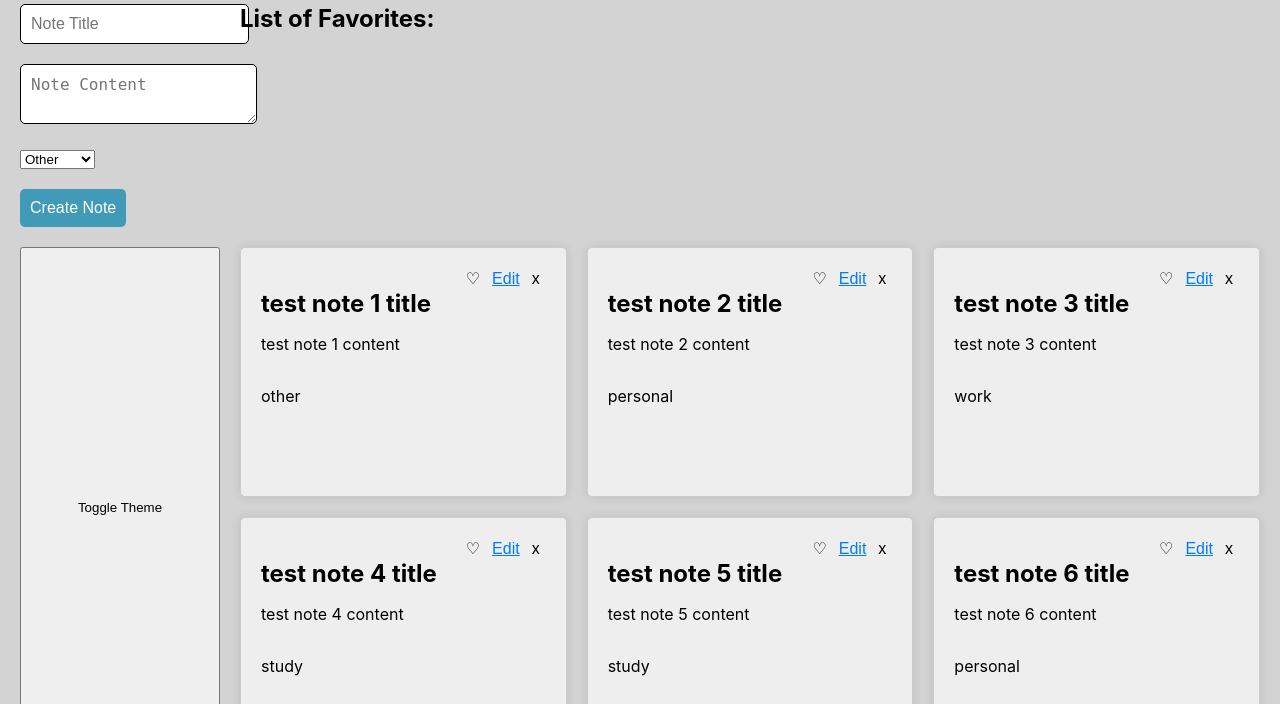
it: Read StickyNote › displays all notes created
Type "First Note" into the field with placeholder "Note Title".
click(134, 24); type("First Note")  # box [20,4,249,44]
Type "First Content" into the text box with placeholder "Note Content".
click(138, 94); type("First Content")  # box [20,64,257,124]
Select "Work" in the dropdown at (58, 160), box [20,150,95,169]
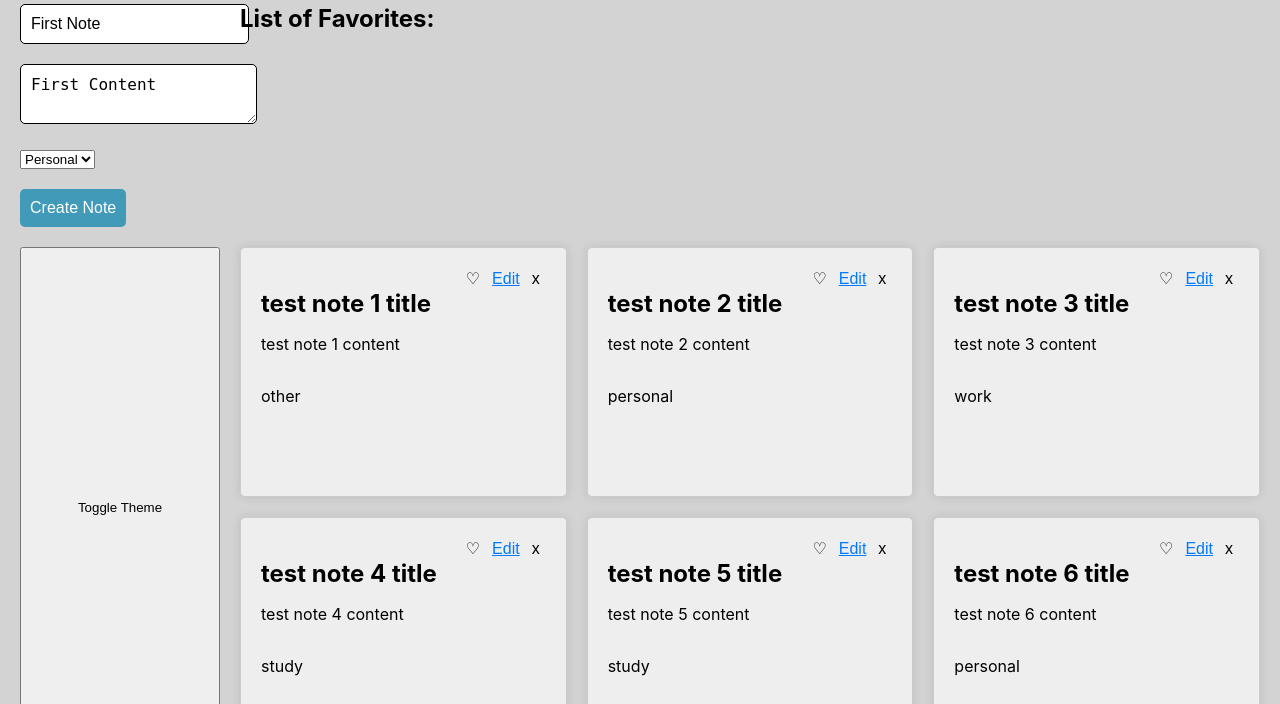
Click the button "Create Note".
click(73, 208)  # box [20,189,126,227]
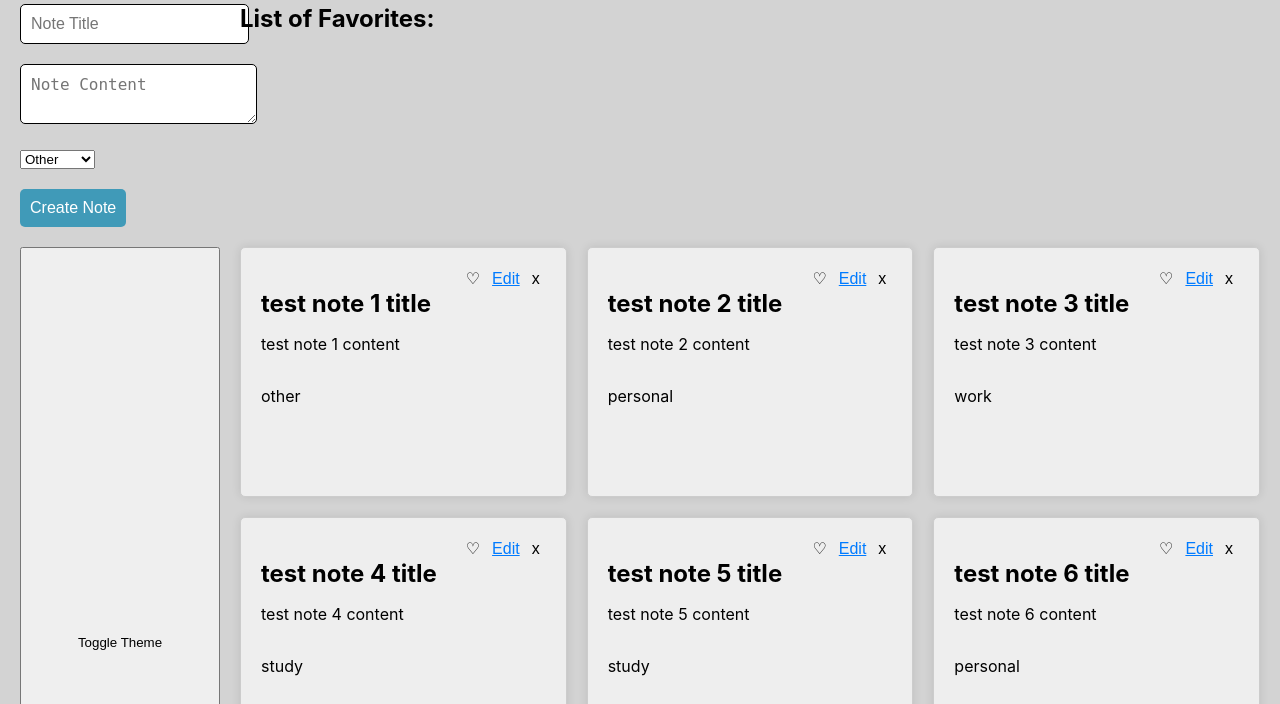
Type "Second Note" into the field with placeholder "Note Title".
click(134, 24); type("Second Note")  # box [20,4,249,44]
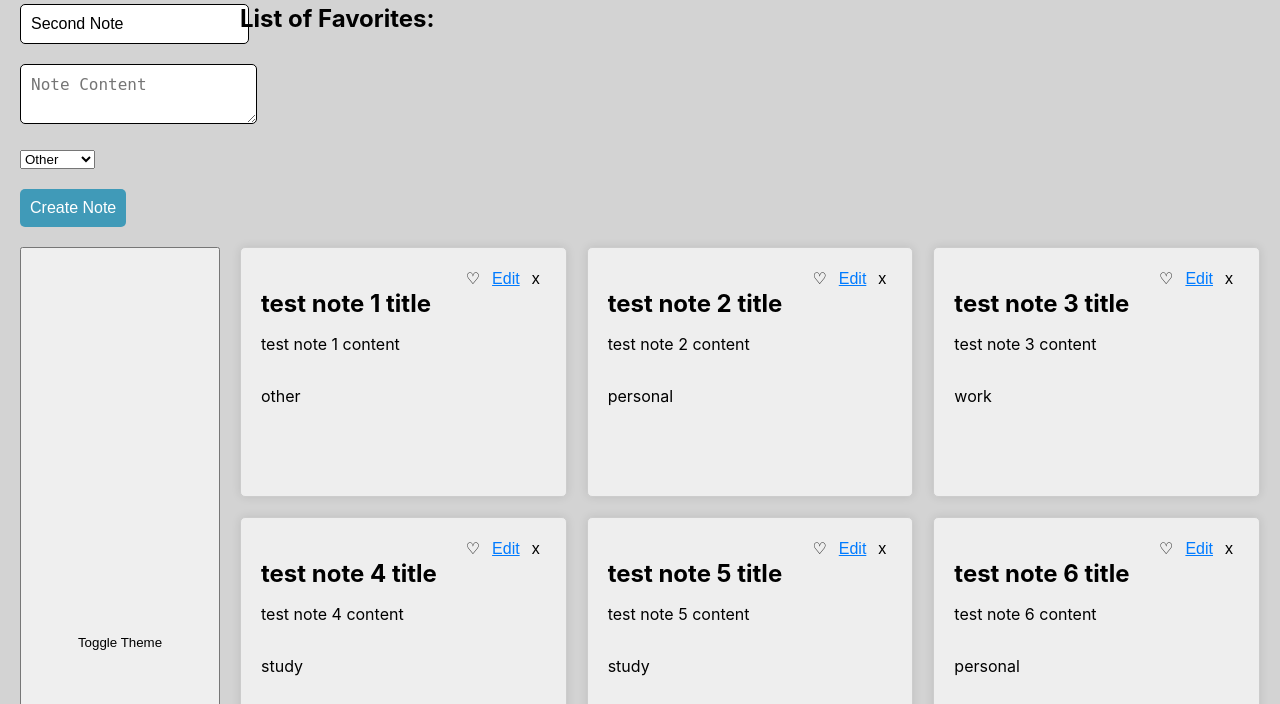
Type "Second Content" into the text box with placeholder "Note Content".
click(138, 94); type("Second Content")  # box [20,64,257,124]
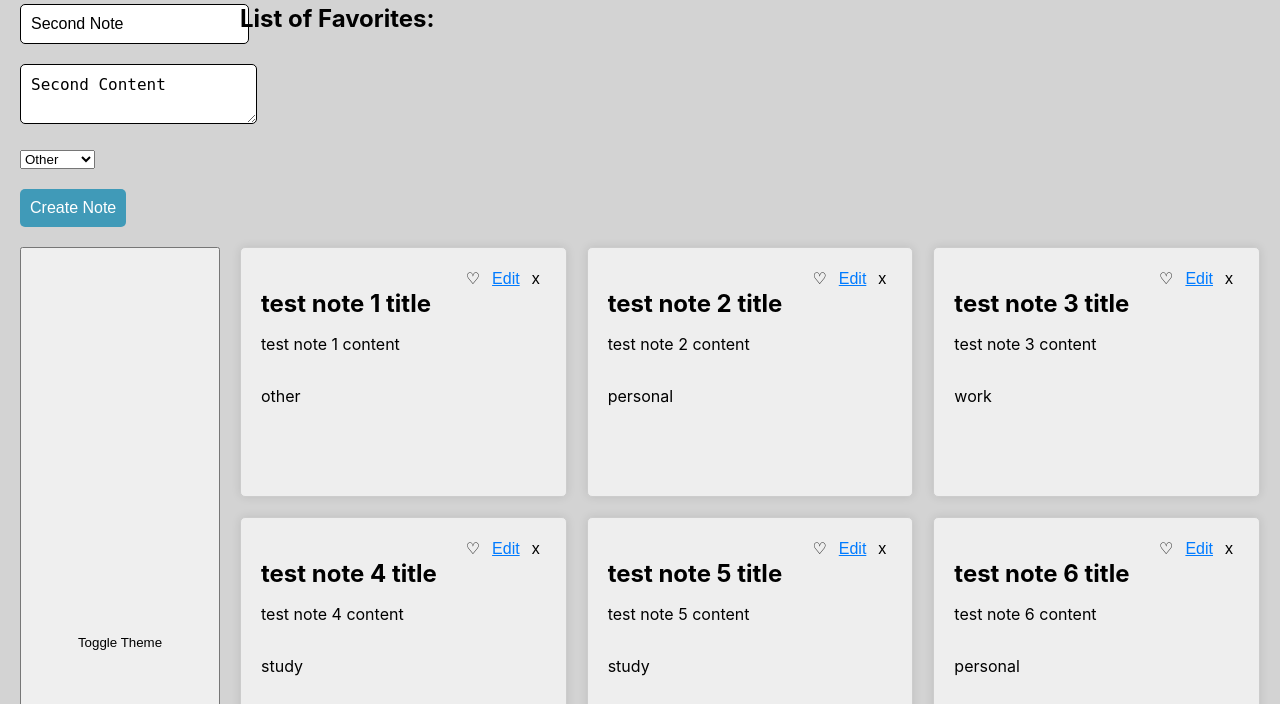
Select "Study" in the dropdown at (58, 160), box [20,150,95,169]
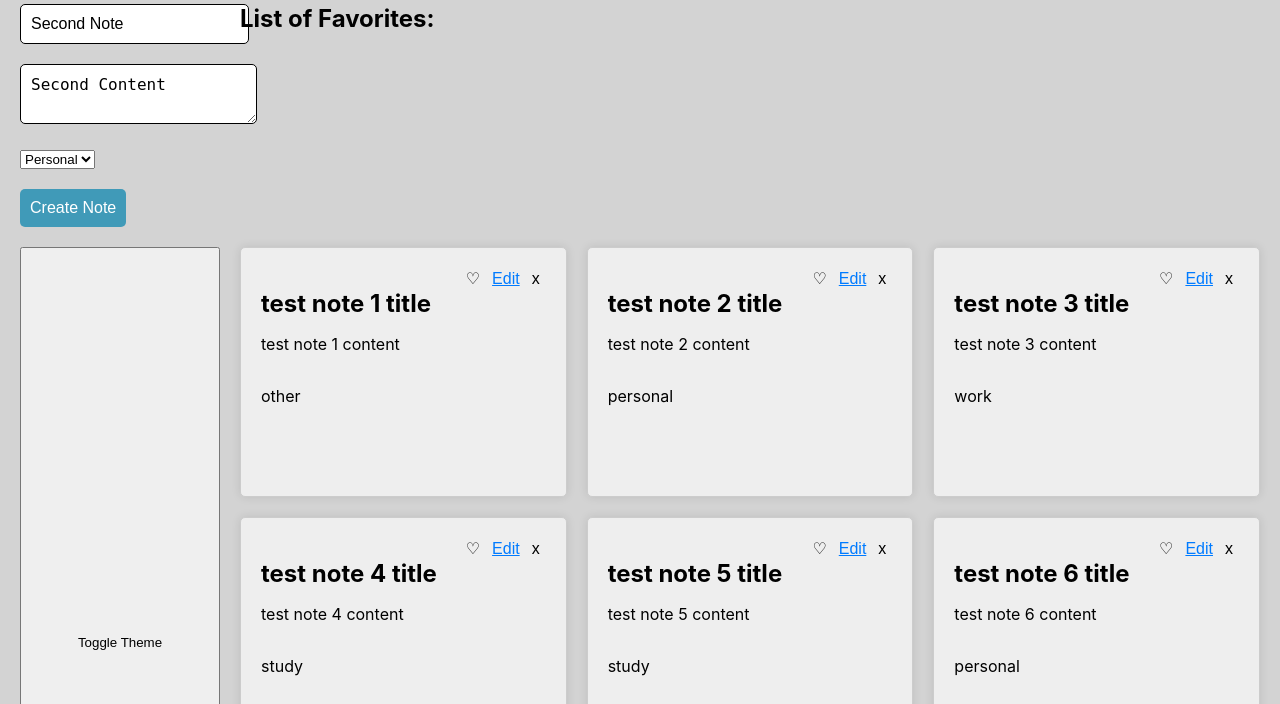
Click the button "Create Note".
click(73, 208)  # box [20,189,126,227]
(page scrolled)
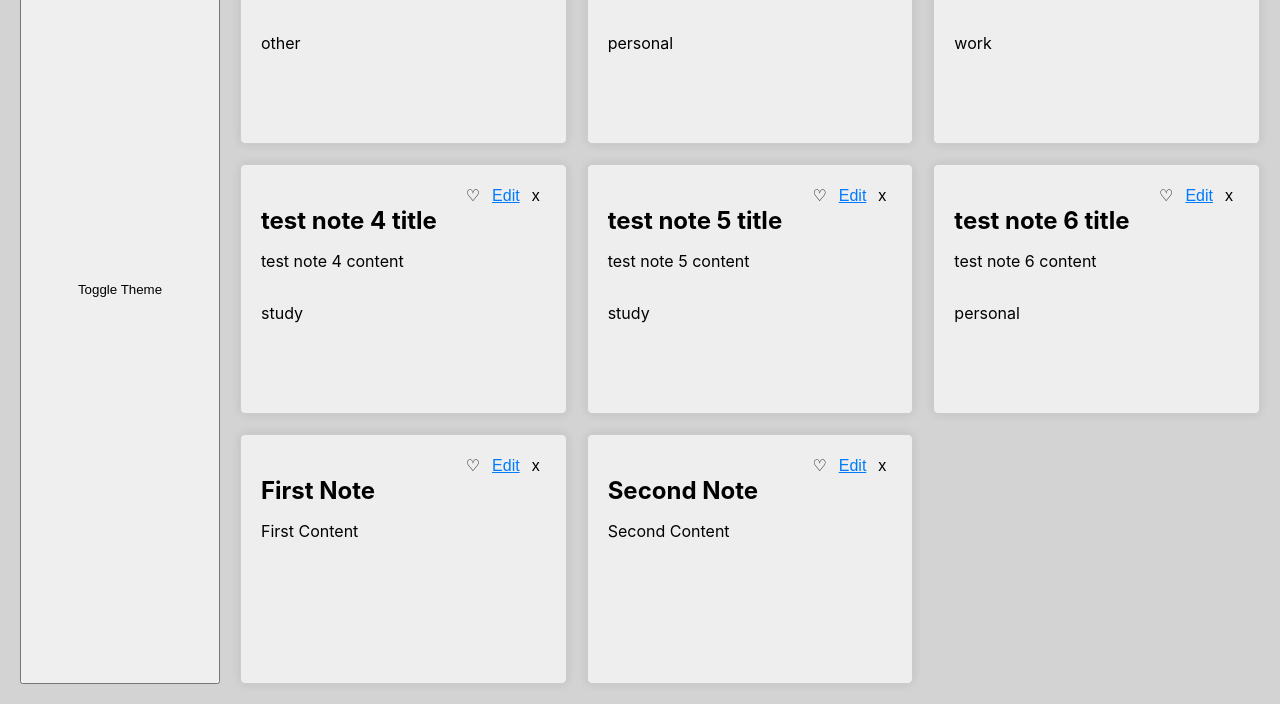
Now the heading "First Note" is shown, box [261,476,375,505]
Now the text "First Content" is shown, box [261,521,358,541]
Now the heading "Second Note" is shown, box [608,476,758,505]
